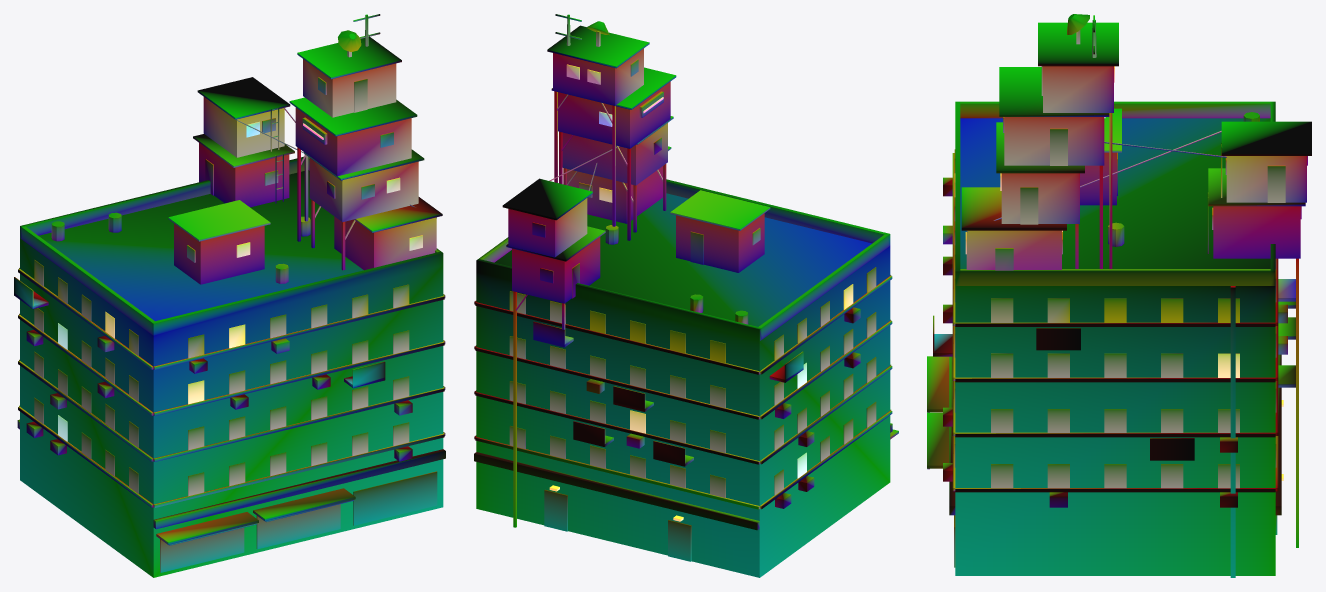
Rendered from Slum_Stack_V1.fbx.
3 renders of one model, left to right at view 1: azimuth 30°, elevation 25°; view 2: azimuth 150°, elevation 25°; view 3: azimuth 270°, elevation 25°, orthographic. The views are drawn at different scales.
Visible parts, largest first — view 1: Slum_Stack_V1_LOD0; view 2: Slum_Stack_V1_LOD0; view 3: Slum_Stack_V1_LOD0.
Boxes of the visible parts, box(x1,y1,x2,y2) form: Slum_Stack_V1_LOD0: box(14, 14, 445, 577); Slum_Stack_V1_LOD0: box(474, 14, 898, 577); Slum_Stack_V1_LOD0: box(927, 14, 1311, 577).
Size of what is drawn, in the model's own units: 22 by 29.67 by 18.99.
